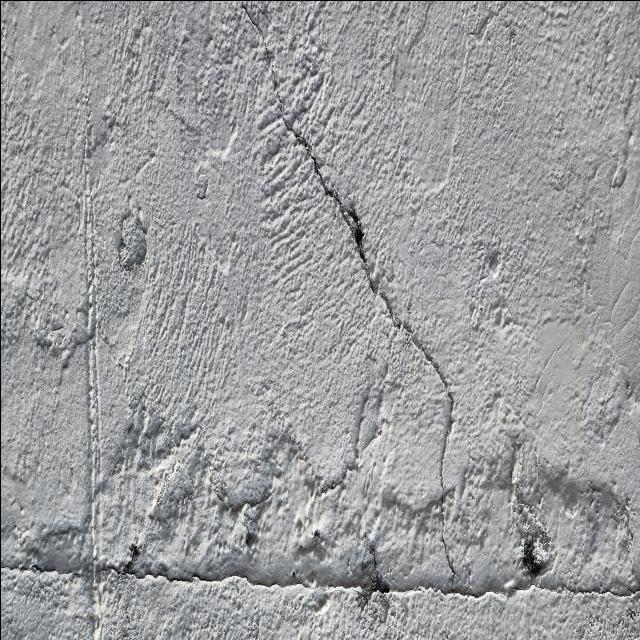SurfaceCrack: (240, 1, 496, 616)
